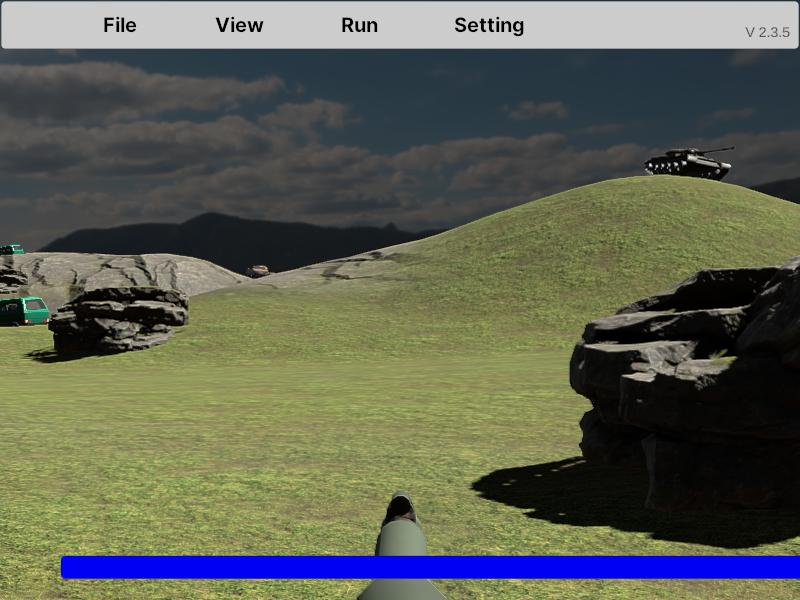Tank: (645, 145, 735, 181)
car: (1, 297, 50, 333)
